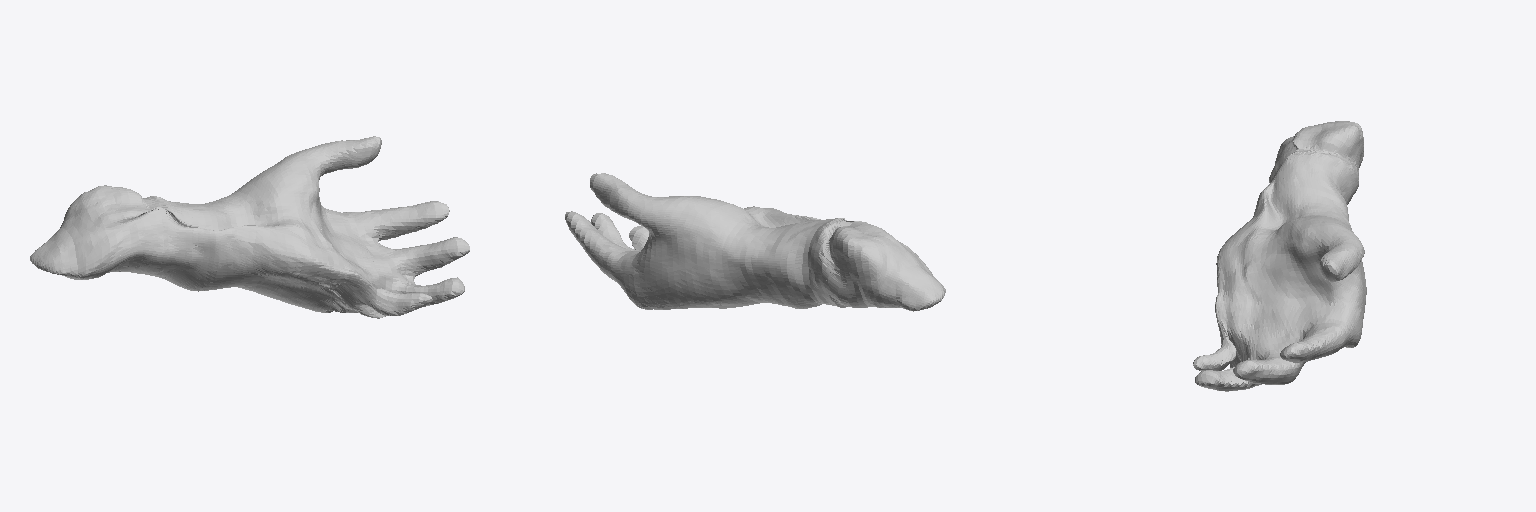
File: fg-00020-geo-color.obj
The picture shows the model from 3 angles: view 1: azimuth 30°, elevation 25°; view 2: azimuth 150°, elevation 25°; view 3: azimuth 270°, elevation 25°; orthographic projection.
Size of the model in its own units: 0.5012 by 0.1766 by 0.1912.